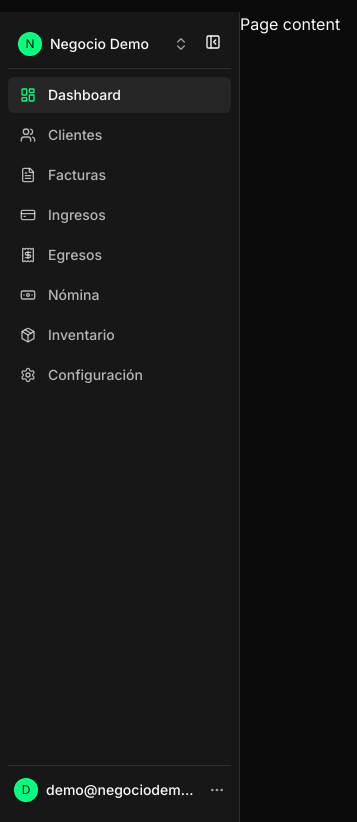
Scenario: DashboardLayout (shared navigation shell) › exposes Cerrar sesión inside the opened bottom-of-sidebar user menu
What coordinates should you click on to do the following:
click the button with aria-label "Opciones de cuenta"
I would click on:
 (120, 790)
Its box is [8,774,231,806].
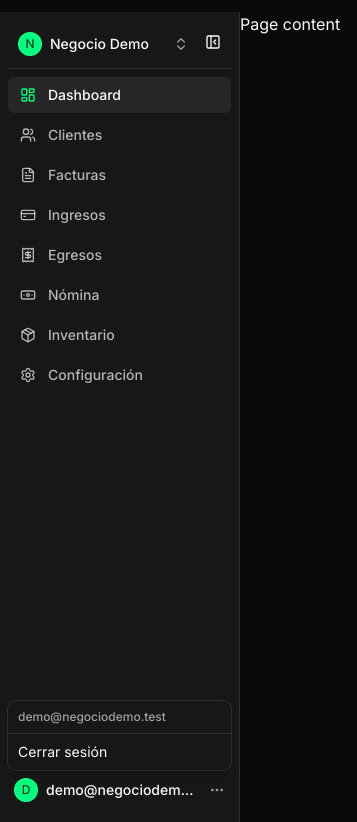
expect the menu item "Cerrar sesión" is shown: met, box [18,743,107,760]
